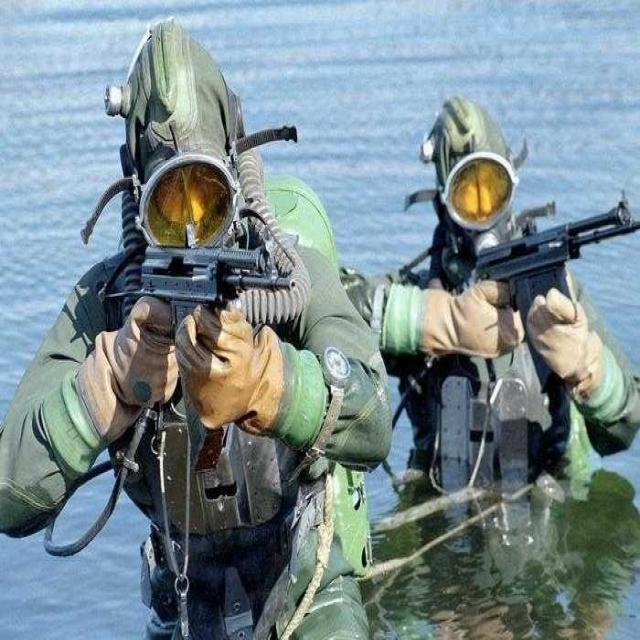Rifle: (453, 190, 637, 316), (123, 228, 298, 324)
